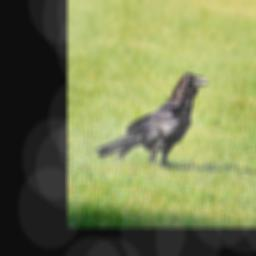Crow: (93, 71, 211, 169)
